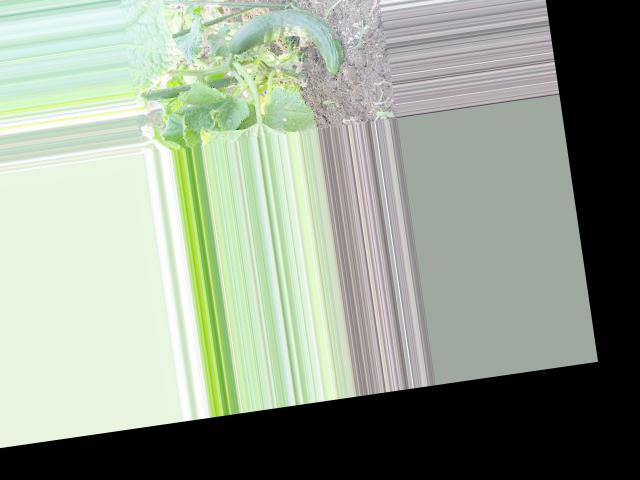cucumber: (223, 1, 346, 89)
